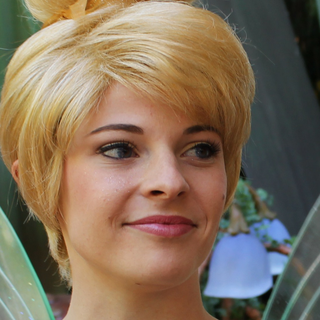eye: (93, 139, 146, 165), (176, 139, 222, 166)
